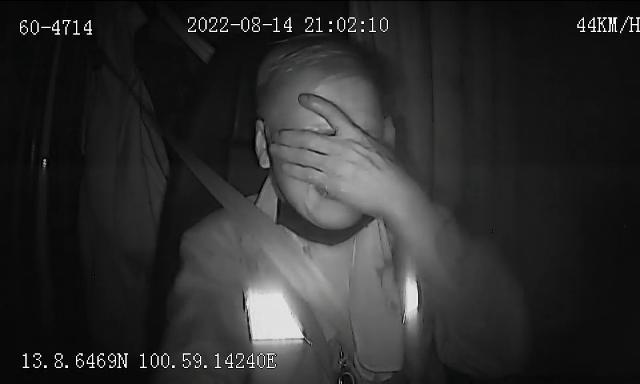Seatbelt: (156, 116, 386, 384)
